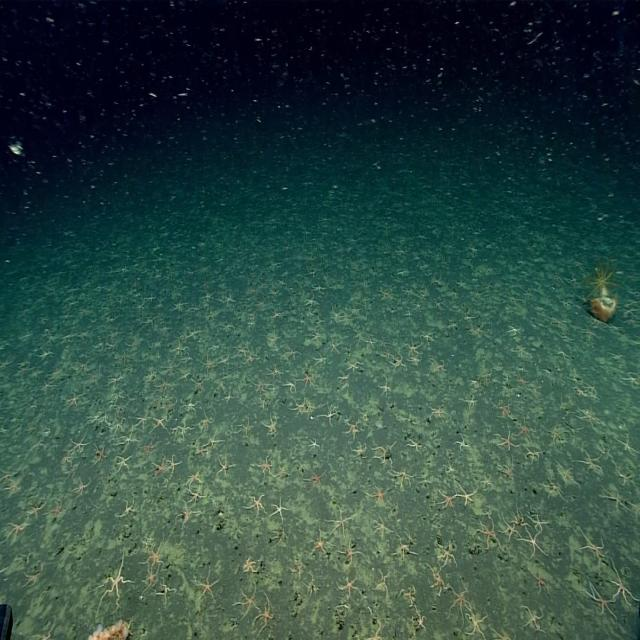brittle-stars: (84, 541, 135, 622), (580, 577, 620, 627), (567, 526, 610, 566), (610, 555, 640, 612), (190, 564, 222, 612), (446, 576, 473, 630), (329, 537, 366, 576), (231, 584, 261, 630), (322, 506, 356, 545), (366, 433, 399, 472), (392, 528, 420, 572), (476, 513, 502, 558), (425, 562, 454, 602), (359, 481, 393, 515), (139, 532, 167, 572), (518, 603, 548, 640), (167, 502, 206, 530), (301, 529, 328, 569), (302, 464, 332, 500), (0, 518, 35, 548), (24, 612, 60, 640), (434, 531, 458, 573), (581, 448, 613, 479), (20, 559, 43, 602), (252, 591, 275, 634), (524, 567, 551, 603), (490, 424, 519, 457), (515, 528, 548, 557), (597, 491, 633, 517), (494, 451, 519, 488), (461, 607, 488, 640), (534, 474, 568, 500), (220, 449, 245, 484), (237, 492, 267, 521), (154, 576, 177, 613), (139, 562, 164, 596), (512, 414, 538, 446), (112, 448, 136, 482), (334, 572, 362, 601), (111, 497, 138, 527), (234, 554, 259, 586), (368, 515, 394, 545), (146, 453, 168, 488), (252, 453, 276, 485), (180, 484, 207, 512), (113, 427, 140, 455), (552, 461, 580, 488), (574, 406, 604, 431), (448, 426, 472, 457), (613, 452, 633, 489), (64, 430, 92, 456), (312, 402, 338, 430), (570, 381, 598, 407), (268, 496, 292, 526), (394, 582, 418, 612), (383, 466, 417, 487), (202, 408, 225, 439), (488, 396, 515, 422), (18, 498, 46, 523), (455, 481, 480, 509), (524, 507, 552, 532), (400, 432, 424, 460), (499, 516, 522, 545), (419, 403, 449, 425), (168, 421, 195, 445), (294, 369, 318, 396), (371, 567, 390, 601), (245, 375, 273, 398), (0, 459, 21, 489), (466, 316, 491, 341), (68, 478, 92, 504), (281, 556, 305, 582), (234, 416, 258, 442), (544, 421, 566, 449), (354, 619, 383, 640), (522, 445, 546, 470), (266, 523, 288, 550), (562, 412, 584, 439), (346, 442, 370, 466), (165, 338, 189, 362), (433, 488, 456, 513), (213, 345, 235, 371), (425, 354, 447, 380), (26, 432, 48, 458), (162, 454, 183, 481), (411, 605, 428, 638), (455, 393, 479, 416), (183, 374, 208, 396), (263, 305, 285, 330), (46, 500, 66, 527), (212, 427, 235, 450), (178, 392, 198, 418), (91, 441, 108, 471), (147, 414, 169, 437), (181, 468, 202, 492), (128, 411, 152, 432), (271, 459, 290, 485), (259, 412, 278, 438), (373, 376, 392, 402), (402, 333, 421, 359), (621, 435, 640, 461), (82, 406, 104, 428), (63, 391, 84, 414), (502, 320, 525, 341), (137, 437, 161, 457), (507, 508, 531, 528), (477, 360, 495, 386), (222, 280, 238, 309), (298, 577, 319, 599), (171, 290, 190, 314), (288, 396, 306, 421), (326, 300, 343, 326), (488, 625, 517, 640), (282, 378, 300, 402), (185, 318, 203, 342), (152, 377, 172, 398), (264, 363, 285, 383), (302, 329, 324, 348), (387, 354, 405, 377), (513, 368, 530, 392), (429, 294, 446, 318), (341, 424, 361, 444), (333, 596, 351, 618), (114, 346, 132, 368), (200, 284, 218, 306), (7, 478, 23, 502), (192, 443, 211, 463), (38, 375, 57, 395), (334, 372, 353, 392), (298, 294, 317, 314), (415, 472, 434, 492), (404, 354, 426, 371), (197, 357, 216, 376), (84, 367, 102, 387), (232, 340, 250, 360), (420, 329, 438, 349), (282, 347, 302, 365), (479, 501, 496, 522), (306, 432, 322, 454), (362, 331, 377, 354), (310, 276, 328, 295), (398, 280, 416, 299), (342, 358, 362, 375), (262, 334, 280, 352), (108, 417, 125, 436), (112, 401, 131, 418), (328, 339, 344, 359), (351, 326, 366, 347), (342, 309, 357, 330), (312, 308, 325, 332), (63, 463, 79, 482), (304, 397, 320, 416), (443, 458, 458, 478), (478, 471, 493, 491), (143, 366, 158, 386), (0, 558, 11, 585), (310, 352, 329, 367), (105, 374, 123, 389), (99, 406, 110, 430), (242, 352, 258, 368), (412, 297, 425, 316), (60, 451, 74, 468), (405, 528, 418, 546), (380, 283, 392, 302), (151, 334, 162, 354), (376, 338, 394, 350), (111, 390, 125, 404), (257, 394, 270, 409), (76, 360, 88, 376), (341, 412, 353, 428), (466, 375, 478, 390)
